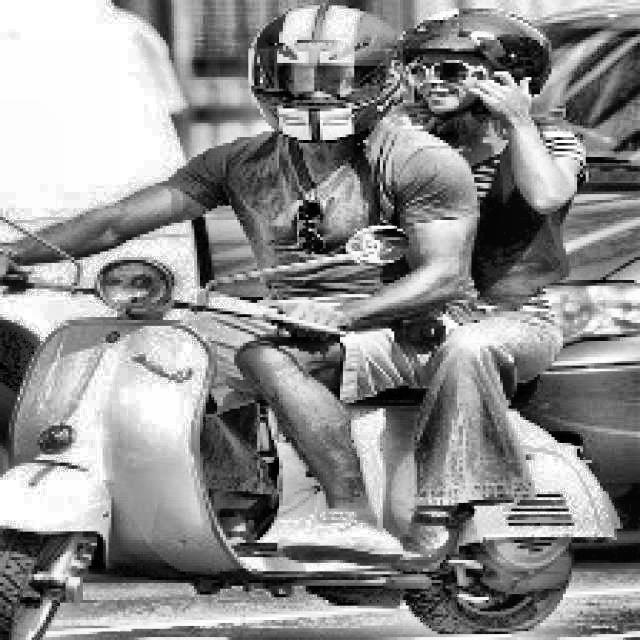motorcycle: (4, 193, 592, 640)
